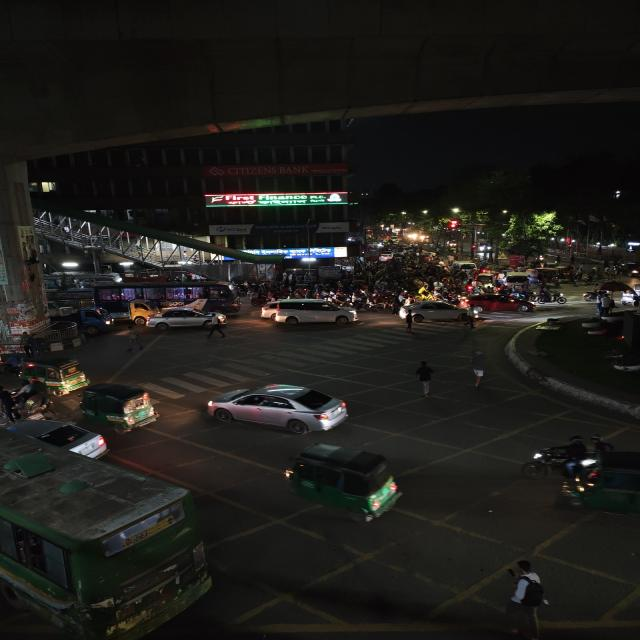bicycle: (202, 311, 230, 340)
bus: (0, 466, 215, 640), (90, 278, 240, 305)
car: (202, 378, 358, 436), (3, 419, 110, 459), (259, 297, 361, 330), (396, 299, 481, 329), (156, 305, 227, 330), (486, 292, 536, 316)
cng: (280, 442, 410, 523), (78, 383, 165, 431), (27, 356, 89, 394)
motorcycle: (518, 432, 612, 502), (12, 381, 56, 420), (537, 286, 574, 309)
pedestrian: (498, 556, 550, 634), (409, 359, 440, 401), (464, 350, 492, 390), (400, 307, 418, 331), (464, 303, 480, 327)
pickup_van: (108, 297, 152, 327)
